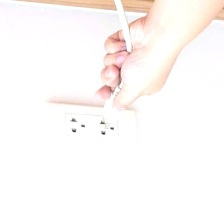three_eye_plug: (41, 99, 141, 159)
